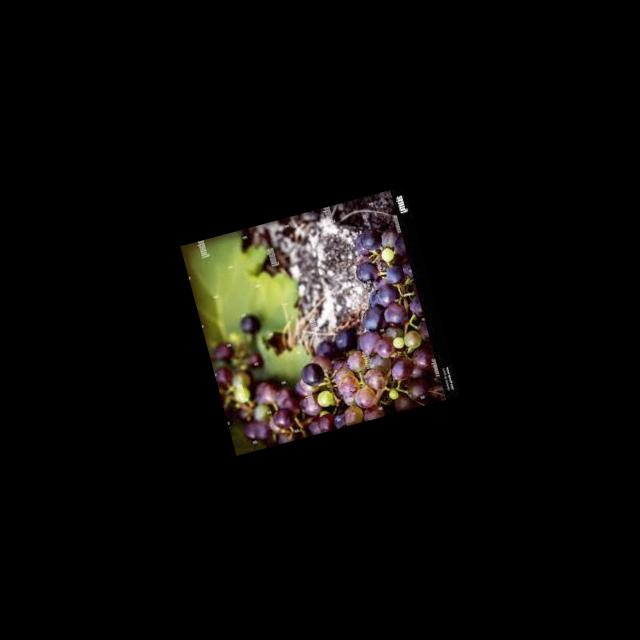grape: (291, 298, 455, 431)
